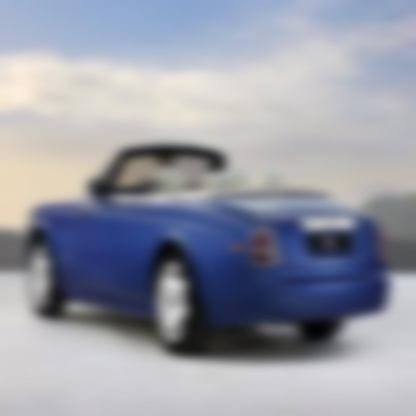Vehicle: (26, 139, 396, 361)
